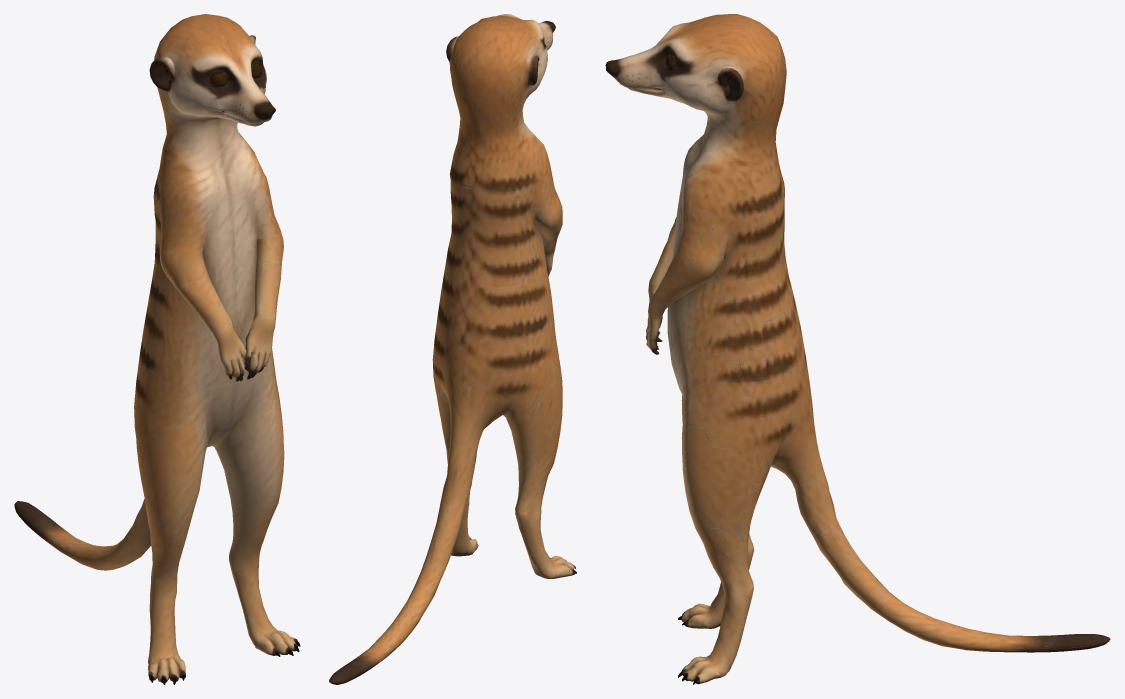
The model's file is meerkat-bine-stand.glb.
3 renders of one model, left to right at view 1: azimuth 30°, elevation 25°; view 2: azimuth 150°, elevation 25°; view 3: azimuth 270°, elevation 25°, orthographic. The views are drawn at different scales.
Parts seen in each view (by area): view 1: geometry_0; view 2: geometry_0; view 3: geometry_0.
Part boxes in pixels (x1=…): geometry_0: x1=14, y1=14, x2=300, y2=684; geometry_0: x1=329, y1=14, x2=576, y2=684; geometry_0: x1=605, y1=14, x2=1110, y2=684.
Size of the model in its own units: 0.2339 by 0.9512 by 0.6909.
Materials: 1 (1 with a texture image).
